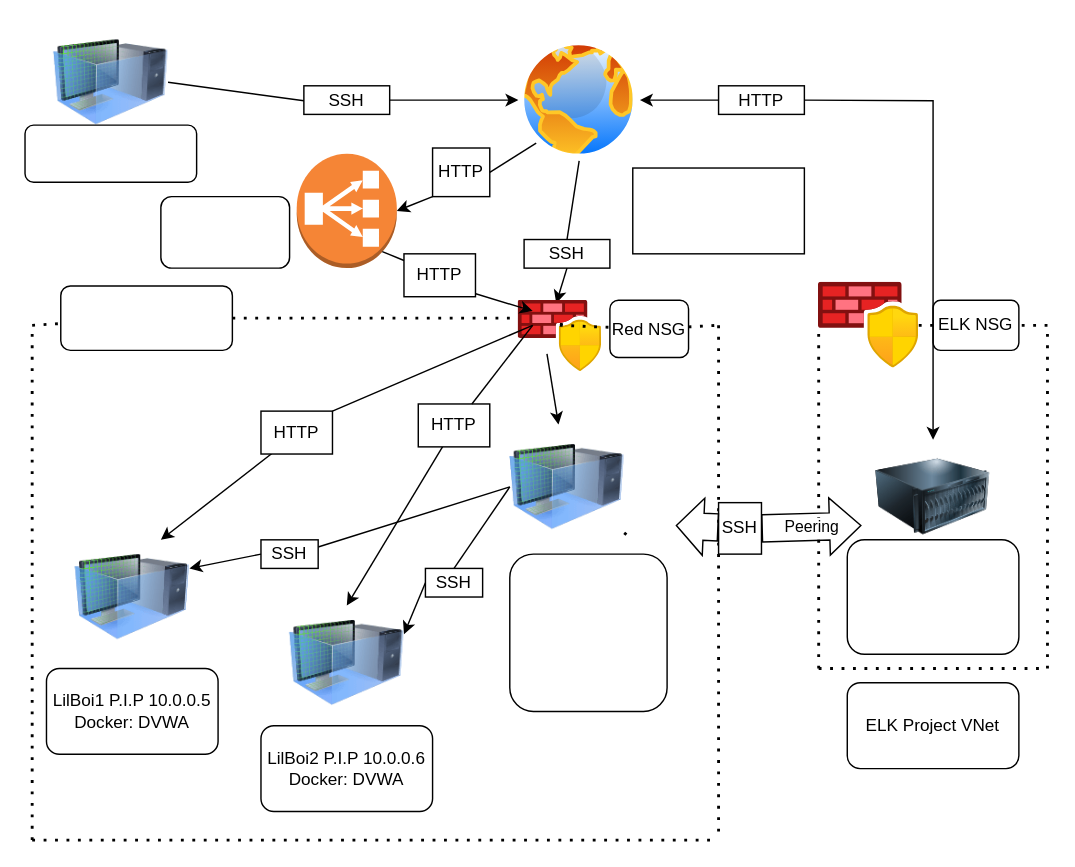
This 1075x867 diagram has some shape labels left out. Here are the shapes that lost their labels. From the top down, the box of each, then its label:
(24, 124, 197, 182): Home I.P 120.147.151.227
(631, 167, 804, 254): Red_Team RG
(159, 195, 290, 268): Load Balancer P.i.P 40.115.92,189
(59, 285, 232, 350): Red Team VNet I.P Range 10.0.0.0/16
(846, 538, 1019, 654): ELK Server Docker: ELK Container I.P 20.53.228.202 P.I.P 10.1.0.4
(508, 553, 667, 711): Jumpbox BigBoi I.P 52.158.135.176 P.I.P 10.0.0.4 Ansible: Host Docker: Host
